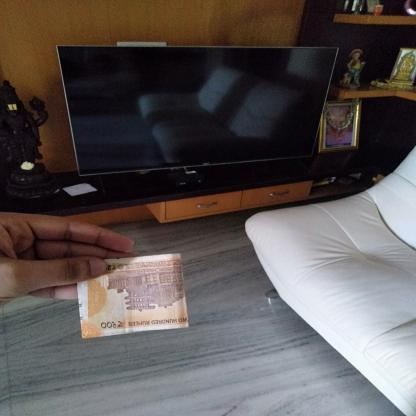New200Back: (78, 256, 190, 338)
